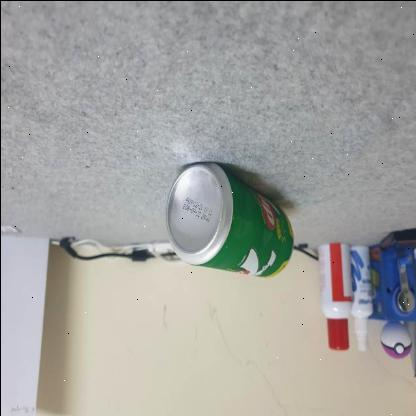Can: (165, 162, 293, 278)
